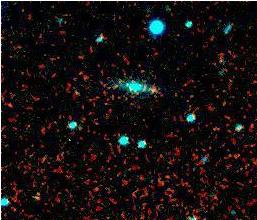star: (138, 75, 168, 105)
